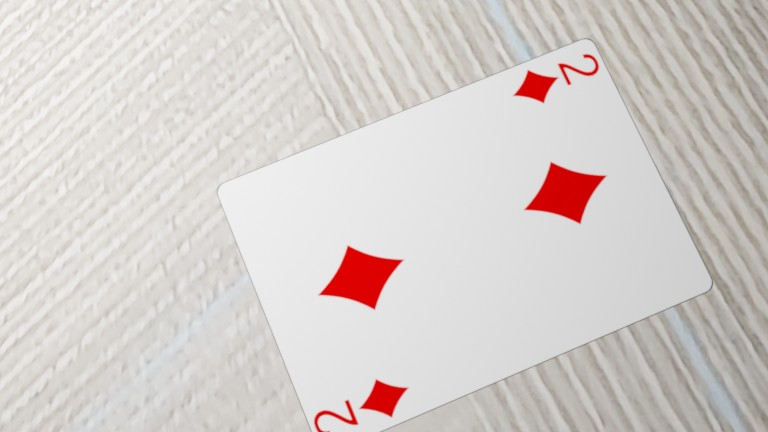2_of_diamonds: (501, 41, 608, 120), (307, 360, 421, 432)
